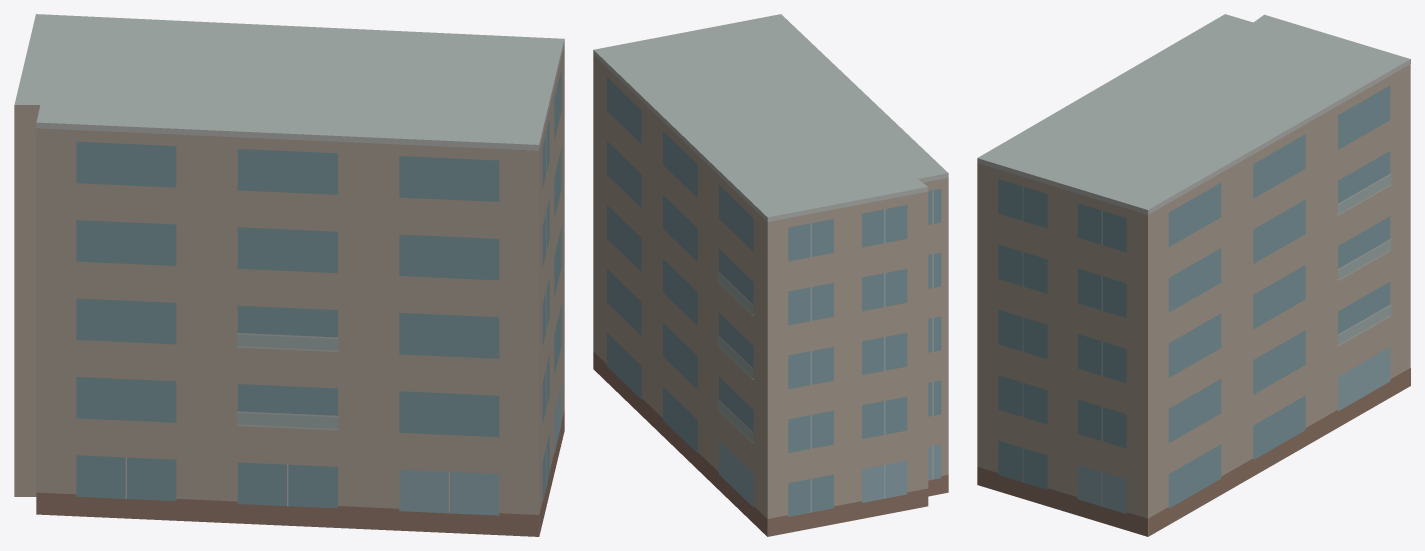
The model's file is survey-upis-32828900.glb.
3 renders of one model, left to right at view 1: azimuth 30°, elevation 25°; view 2: azimuth 150°, elevation 25°; view 3: azimuth 270°, elevation 25°, orthographic. The views are drawn at different scales.
Parts seen in each view (by area): view 1: survey-upis-32828900.tmp; view 2: survey-upis-32828900.tmp; view 3: survey-upis-32828900.tmp.
Part boxes in pixels (x1=…): survey-upis-32828900.tmp: x1=14, y1=14, x2=564, y2=536; survey-upis-32828900.tmp: x1=593, y1=14, x2=948, y2=536; survey-upis-32828900.tmp: x1=977, y1=14, x2=1410, y2=536.
Size of the model in its own units: 21.24 by 16.5 by 19.84.
